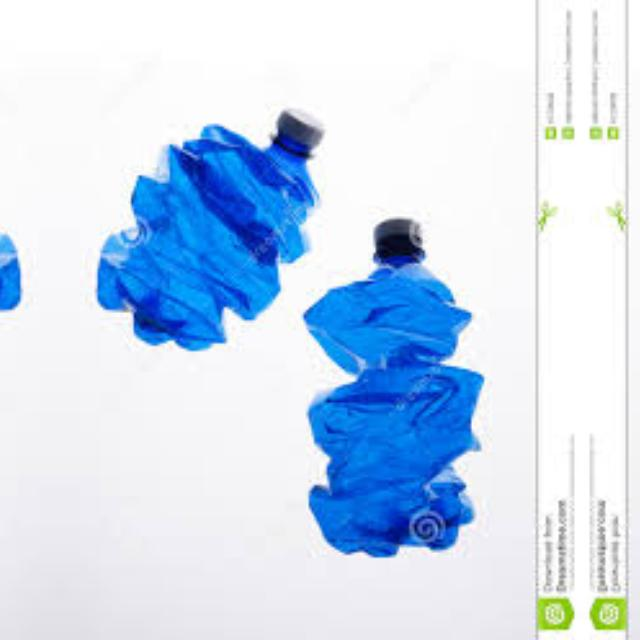Plastic: (296, 205, 499, 569), (87, 94, 339, 360), (0, 93, 29, 360)
